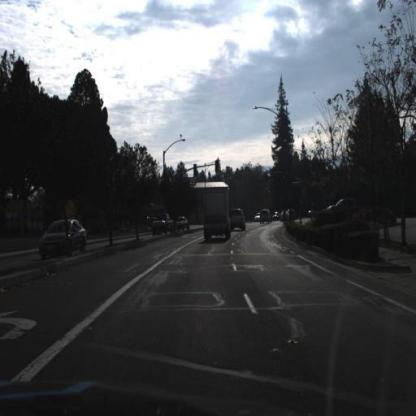car: (40, 219, 88, 262), (202, 185, 236, 241), (152, 210, 175, 241), (152, 211, 176, 236), (171, 214, 193, 237), (231, 208, 248, 231), (258, 208, 274, 226), (279, 206, 292, 224)
truck: (204, 188, 232, 242)
